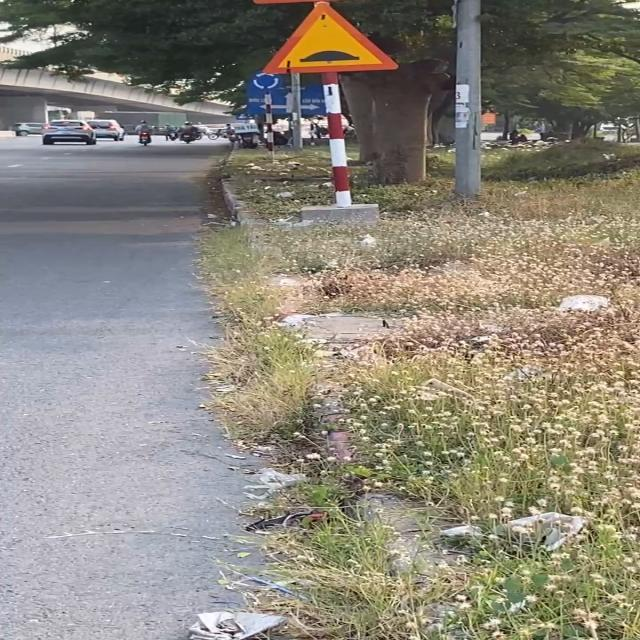221-duong-go-ghe: (257, 0, 403, 75)
303-noi-giao-nhau-chay-theo-vong-xuyen: (251, 72, 282, 92)
